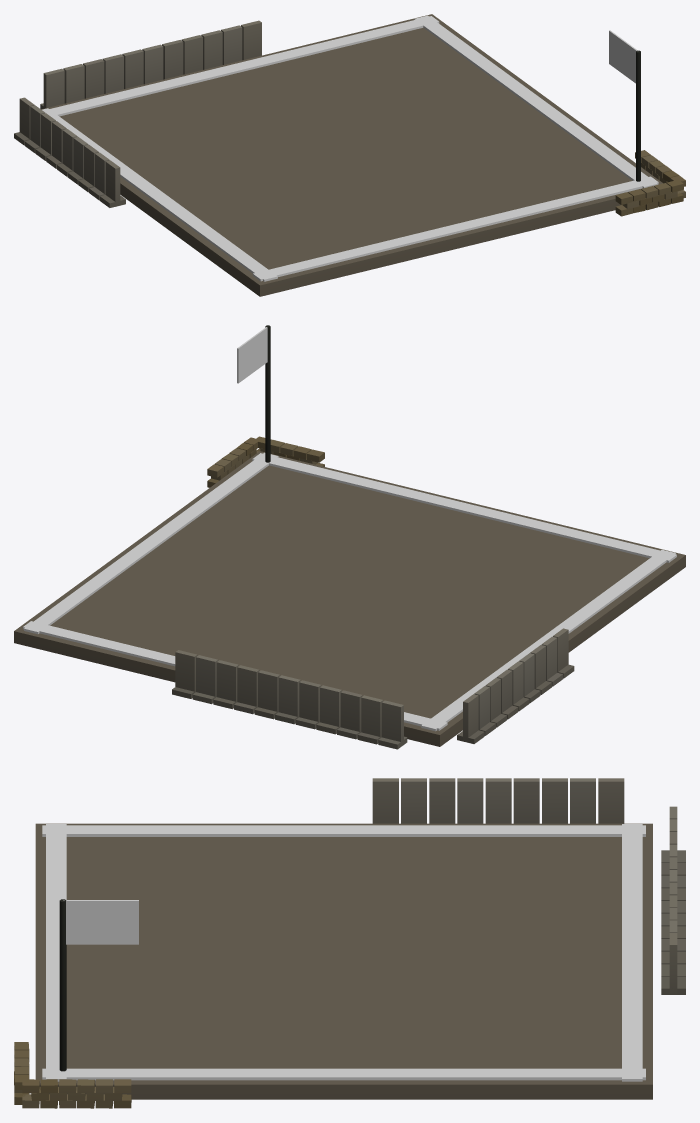
Rendered from m_hq_2ece7abd.glb.
3 views of the same model, one above another, from view 1: azimuth 30°, elevation 25°; view 2: azimuth 150°, elevation 25°; view 3: azimuth 270°, elevation 25° (orthographic). The views are drawn at different scales.
Visible parts, largest first — view 1: mesh; view 2: mesh; view 3: mesh.
Boxes of the visible parts, box(x1,y1,x2,y2) form: mesh: box(14, 14, 685, 296); mesh: box(14, 325, 685, 749); mesh: box(14, 778, 685, 1108).
Bounding box in the file's own units: 97.49 × 30 × 97.49.
